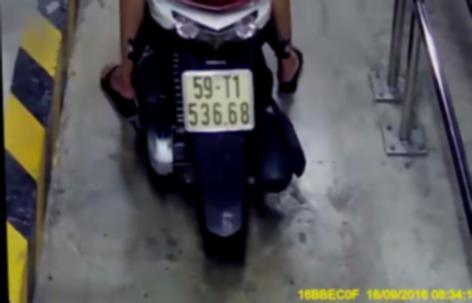License_Plate: (176, 66, 264, 133)
